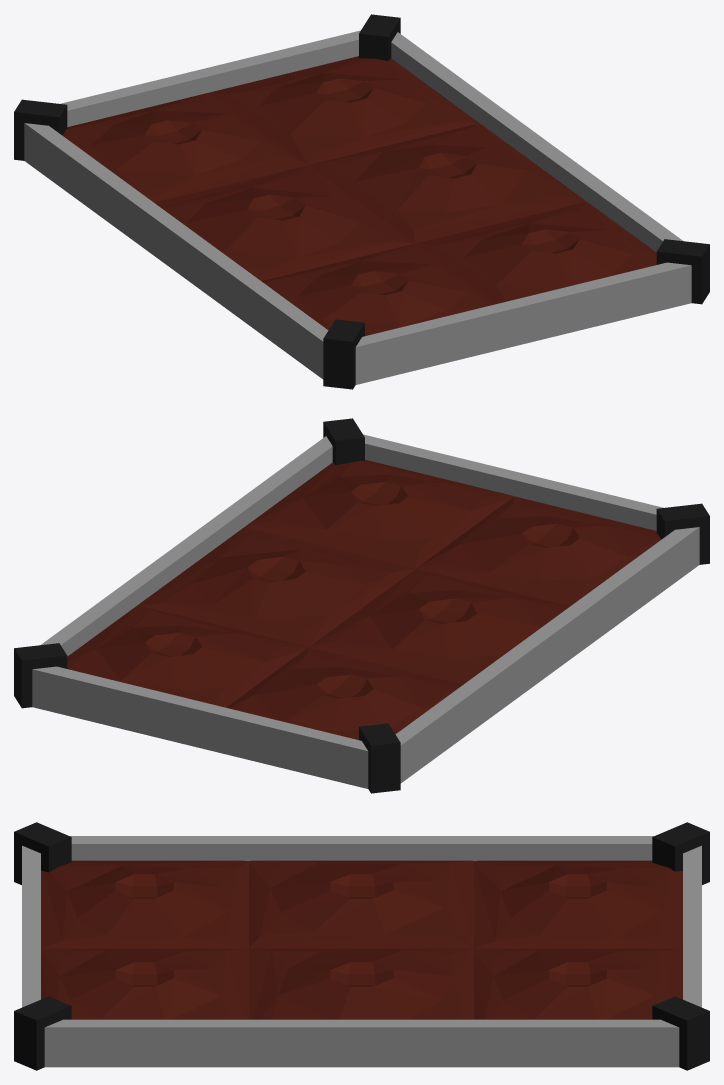
File: obj_plot_6.FBX
The picture shows the model from 3 angles, top to bottom: view 1: azimuth 30°, elevation 25°; view 2: azimuth 150°, elevation 25°; view 3: azimuth 270°, elevation 25°; orthographic projection. The views are drawn at different scales.
Visible parts, largest first — view 1: obj_plot_6, obj_plot_6_soil_4, obj_plot_6_soil_6, obj_plot_6_soil_3, obj_plot_6_soil_5, obj_plot_6_soil_2, obj_plot_6_soil_1; view 2: obj_plot_6, obj_plot_6_soil_4, obj_plot_6_soil_2, obj_plot_6_soil_3, obj_plot_6_soil_1, obj_plot_6_soil_6, obj_plot_6_soil_5; view 3: obj_plot_6, obj_plot_6_soil_3, obj_plot_6_soil_5, obj_plot_6_soil_1, obj_plot_6_soil_4, obj_plot_6_soil_6, obj_plot_6_soil_2.
Part boxes in pixels (bbox=[...]): obj_plot_6: bbox=[14, 14, 709, 389]; obj_plot_6_soil_4: bbox=[309, 123, 586, 243]; obj_plot_6_soil_6: bbox=[210, 56, 479, 164]; obj_plot_6_soil_3: bbox=[154, 165, 415, 280]; obj_plot_6_soil_5: bbox=[62, 92, 308, 202]; obj_plot_6_soil_2: bbox=[416, 202, 656, 303]; obj_plot_6_soil_1: bbox=[261, 243, 497, 335]; obj_plot_6: bbox=[14, 418, 709, 793]; obj_plot_6_soil_4: bbox=[138, 527, 415, 646]; obj_plot_6_soil_2: bbox=[245, 459, 513, 568]; obj_plot_6_soil_3: bbox=[309, 569, 569, 684]; obj_plot_6_soil_1: bbox=[416, 496, 661, 606]; obj_plot_6_soil_6: bbox=[67, 605, 308, 707]; obj_plot_6_soil_5: bbox=[226, 647, 462, 739]; obj_plot_6: bbox=[14, 822, 709, 1070]; obj_plot_6_soil_3: bbox=[248, 860, 474, 948]; obj_plot_6_soil_5: bbox=[474, 860, 682, 948]; obj_plot_6_soil_1: bbox=[41, 860, 248, 948]; obj_plot_6_soil_4: bbox=[249, 948, 473, 1019]; obj_plot_6_soil_6: bbox=[474, 948, 682, 1019]; obj_plot_6_soil_2: bbox=[41, 948, 248, 1019].
Size of the model in its own units: 20.71 by 2.44 by 30.71.
